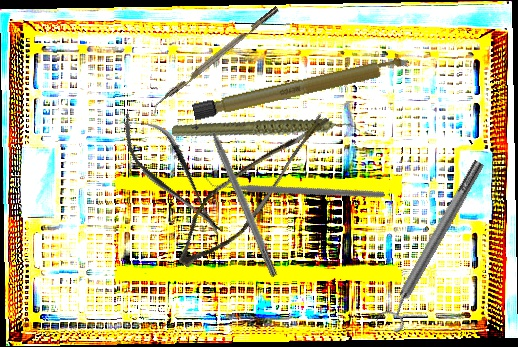Chopper: (203, 102, 386, 268), (147, 6, 284, 117)
Fixation Ring: (373, 155, 494, 335)
Handpiece: (170, 86, 362, 175)
Hook Surgical: (200, 108, 280, 278)
Micro Scissor: (168, 84, 331, 289), (107, 99, 237, 250)
Scalpel Handle: (191, 54, 412, 122)
